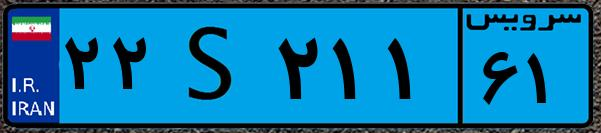1: (385, 28, 445, 110), (330, 28, 385, 110), (525, 38, 570, 115)
2: (270, 28, 330, 110), (57, 26, 110, 100), (110, 28, 158, 98)
6: (475, 38, 525, 113)
S: (158, 12, 270, 120)
